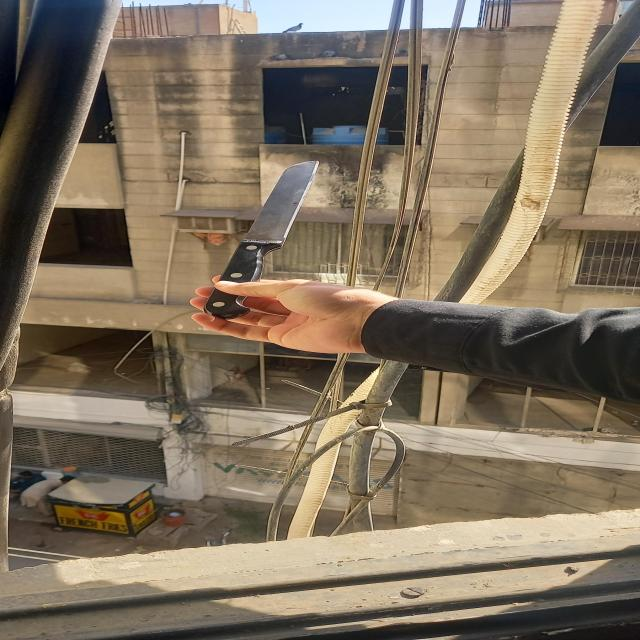Knife: (208, 161, 321, 319)
Person: (191, 273, 640, 405)
